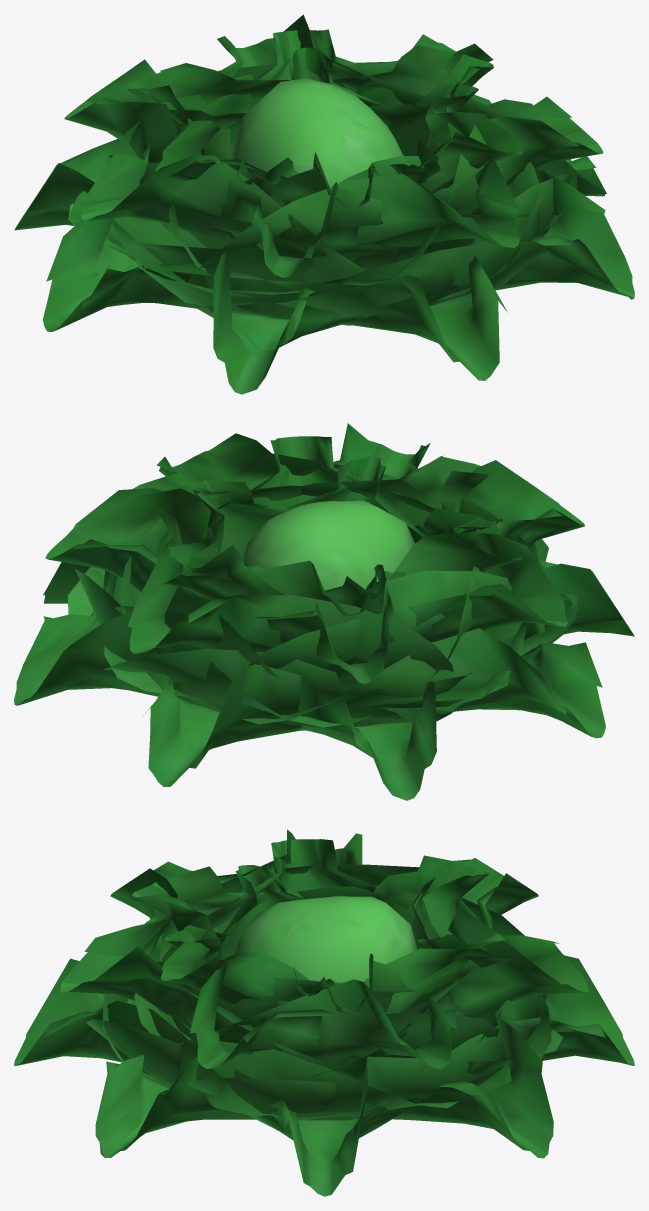
File: crop_mint.glb
3 renders of one model, top to bottom at view 1: azimuth 30°, elevation 25°; view 2: azimuth 150°, elevation 25°; view 3: azimuth 270°, elevation 25°, orthographic. The views are drawn at different scales.
Visible parts, largest first — view 1: crop_mint, fruit; view 2: crop_mint, fruit; view 3: crop_mint, fruit.
Part boxes in pixels (x1,y1,x2,y2): crop_mint: (14,14,634,394); fruit: (231,78,403,187); crop_mint: (14,423,634,800); fruit: (242,500,414,590); crop_mint: (14,829,634,1196); fruit: (232,896,417,982).
Size of the model in its own units: 0.2435 by 0.0936 by 0.2435.
1 material, 1 textured.
